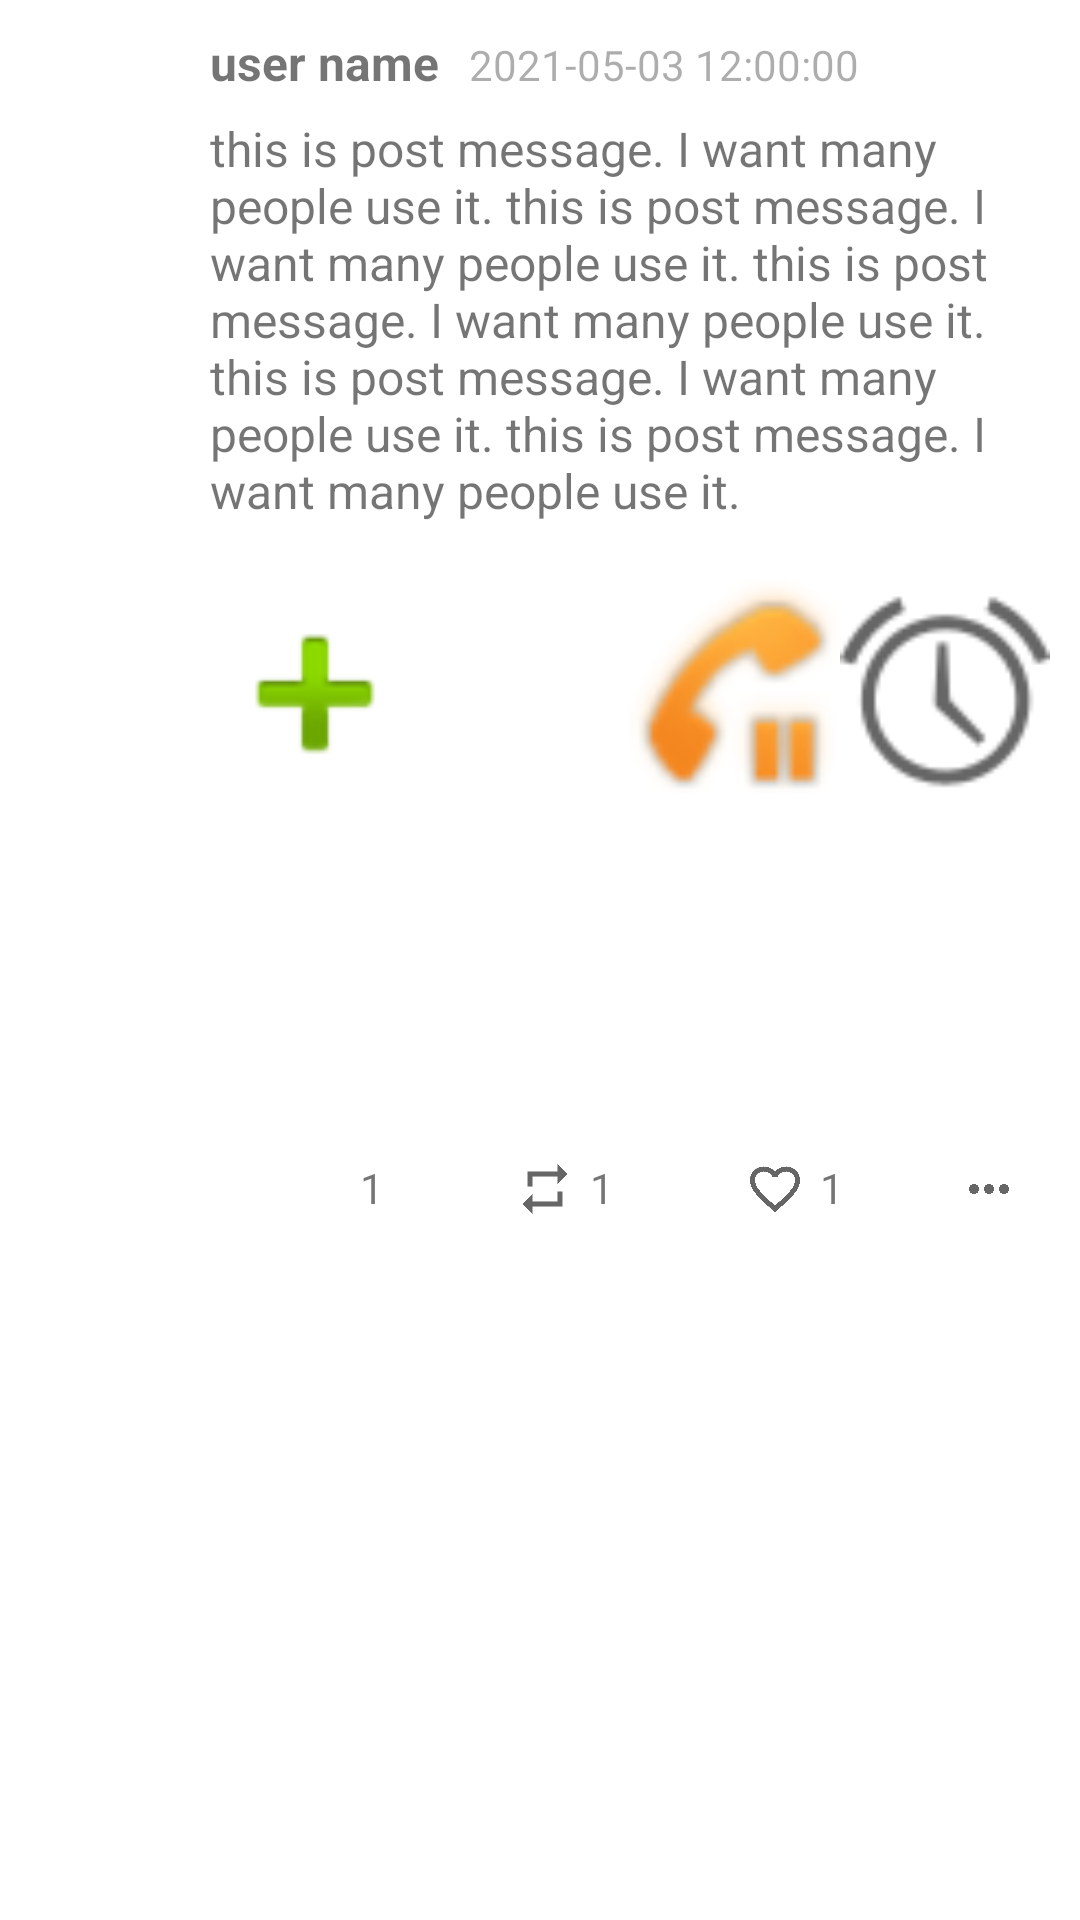

Icon click points for this 1080 × 1920 phone screenshot, format point (x, y):
add: point (315, 694)
favorite border: point (775, 1189)
lock idle alarm: point (945, 692)
more horiz: point (989, 1189)
phone call on hold: point (734, 690)
repeat: point (545, 1189)
